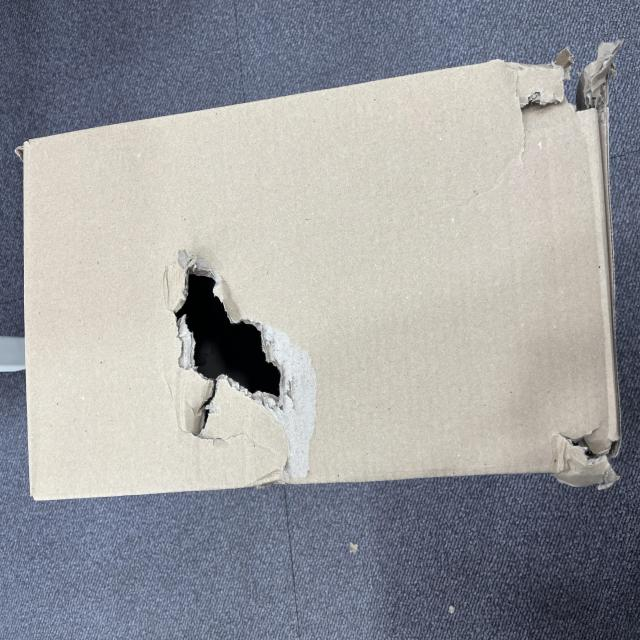damaged: (148, 228, 298, 400)
